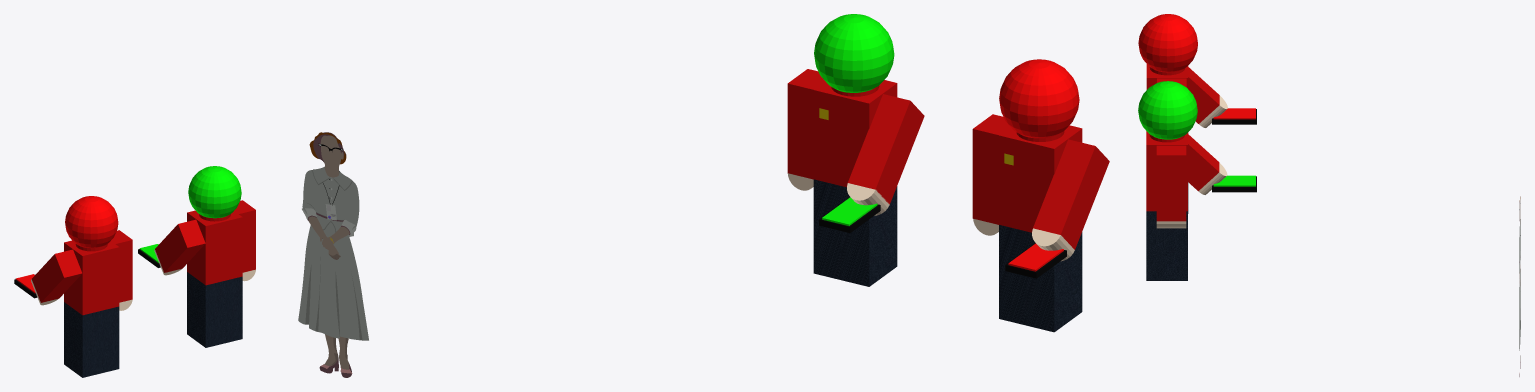
The model's file is st a student model.3ds.glb.
3 renders of one model, left to right at view 1: azimuth 30°, elevation 25°; view 2: azimuth 150°, elevation 25°; view 3: azimuth 270°, elevation 25°, orthographic. The views are drawn at different scales.
Parts seen in each view (by area): view 1: Model, leg4, leg2, Group2, Group4, leg1, leg3, Group1, Group3, Group6, Group5; view 2: Model, Katherine_, Group4, Group2, leg4, leg2, Group1, Group3, leg3, leg1, Group5, Group6 (+2 smaller); view 3: Model, leg3, Group3, Group4, Group2, Group5, Group6.
Boxes of the visible parts, x1,y1,x2,y2 form: Model: (64, 166, 242, 315); leg4: (187, 272, 224, 347); leg2: (64, 302, 100, 377); Group2: (31, 249, 82, 302); Group4: (155, 219, 205, 272); leg1: (101, 306, 119, 373); leg3: (224, 276, 242, 343); Group1: (111, 230, 132, 302); Group3: (234, 200, 255, 272); Group6: (14, 274, 37, 298); Group5: (138, 244, 160, 267); Model: (813, 14, 1082, 232); Katherine_: (298, 132, 368, 377); Group4: (848, 94, 924, 204); Group2: (1033, 139, 1109, 249); leg4: (841, 186, 897, 286); leg2: (1026, 231, 1082, 332); Group1: (972, 114, 1010, 224); Group3: (787, 69, 825, 179); leg3: (813, 179, 841, 279); leg1: (999, 225, 1026, 325); Group5: (819, 197, 880, 232); Group6: (1005, 243, 1066, 278); Model: (1138, 14, 1197, 211); leg3: (1146, 211, 1187, 280); Group3: (1156, 145, 1186, 221); Group4: (1188, 134, 1219, 191); Group2: (1188, 67, 1219, 123); Group5: (1212, 175, 1256, 192); Group6: (1212, 108, 1256, 124).
Size of the model in its own units: 1027 by 441 by 817.
Materials: 44 (4 with a texture image).
